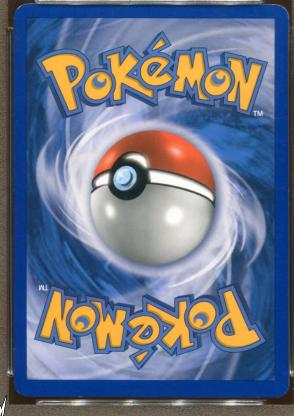Card: (10, 1, 290, 402)
Corner Wear: (277, 380, 287, 398), (13, 380, 21, 394), (14, 4, 22, 14)
